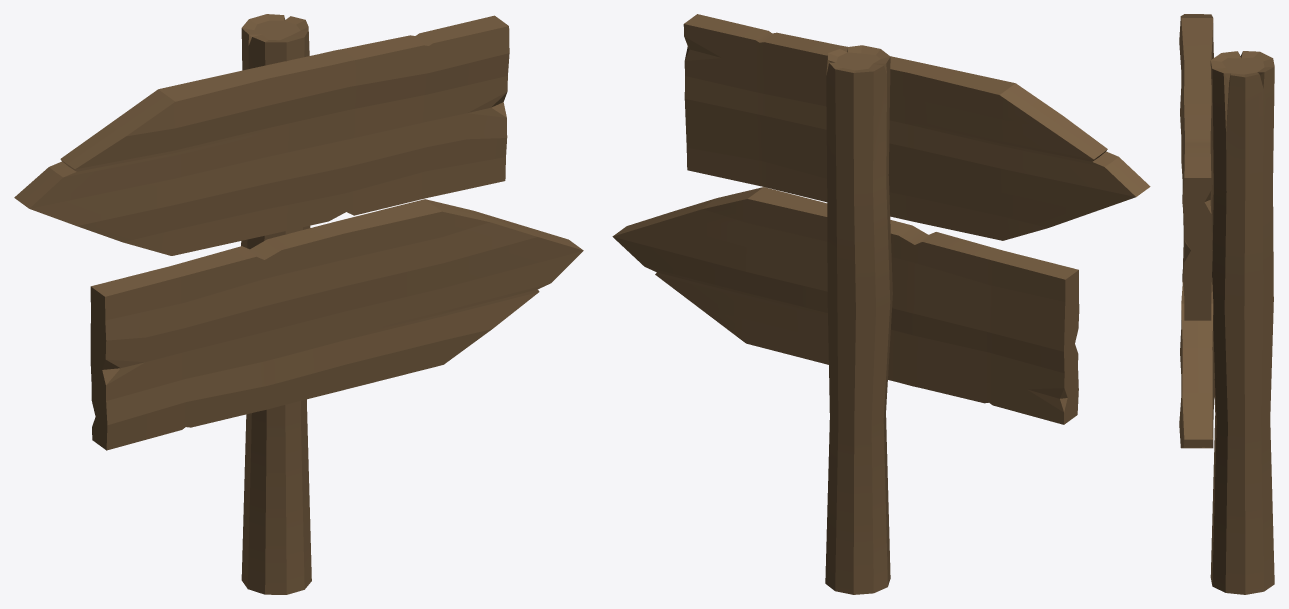
Rendered from two_arrow_sign.fbx.
3 views of the same model, side by side, from view 1: azimuth 30°, elevation 25°; view 2: azimuth 150°, elevation 25°; view 3: azimuth 270°, elevation 25° (orthographic). The views are drawn at different scales.
Visible parts, largest first — view 1: TwoArrow_right, TwoArrow_left, TwoArrow_sign_post; view 2: TwoArrow_left, TwoArrow_right, TwoArrow_sign_post; view 3: TwoArrow_sign_post, TwoArrow_left, TwoArrow_right.
Part boxes in pixels (x1,y1,x2,y2): TwoArrow_right: (90, 199, 583, 450); TwoArrow_left: (14, 15, 509, 255); TwoArrow_sign_post: (241, 14, 311, 594); TwoArrow_left: (683, 14, 1150, 240); TwoArrow_right: (612, 187, 1079, 424); TwoArrow_sign_post: (825, 45, 892, 594); TwoArrow_sign_post: (1210, 51, 1274, 594); TwoArrow_left: (1179, 14, 1213, 320); TwoArrow_right: (1179, 247, 1214, 448).
Size of the model in its own units: 111 by 106 by 17.73.
